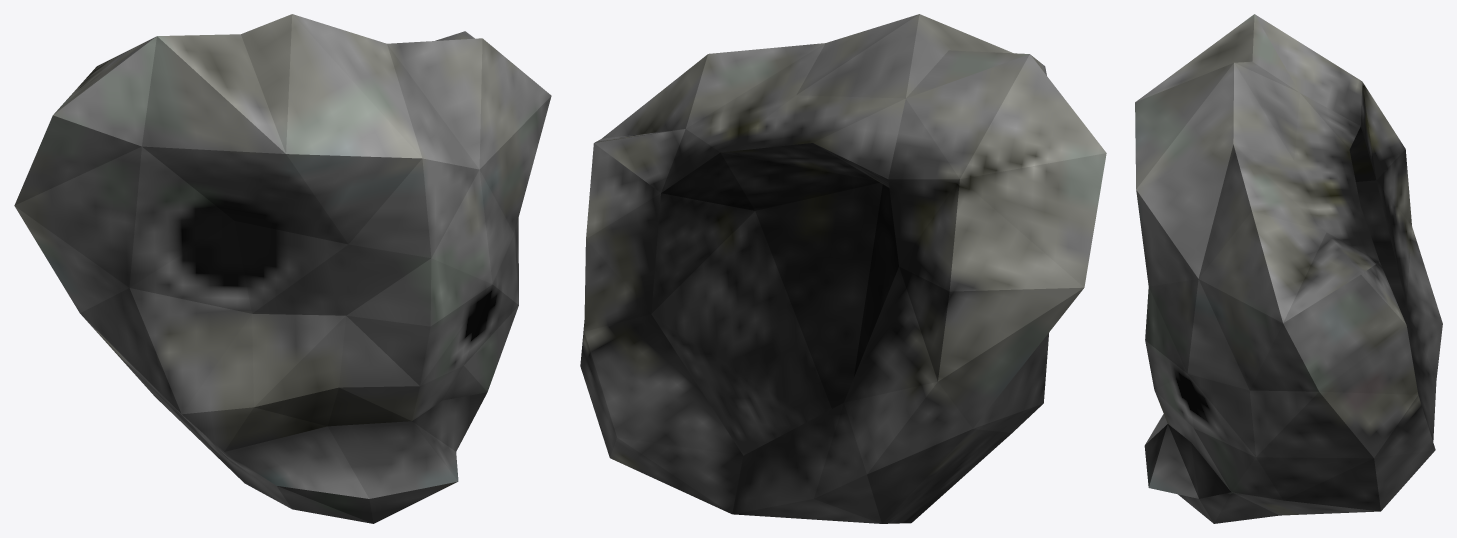
Rendered from stone.glb.
3 views of the same model, side by side, from view 1: azimuth 30°, elevation 25°; view 2: azimuth 150°, elevation 25°; view 3: azimuth 270°, elevation 25° (orthographic). The views are drawn at different scales.
Parts seen in each view (by area): view 1: stonemask.obj; view 2: stonemask.obj; view 3: stonemask.obj.
Part boxes in pixels (box(x1,y1,x2,y2)): stonemask.obj: box(14, 14, 551, 523); stonemask.obj: box(580, 14, 1106, 523); stonemask.obj: box(1135, 14, 1442, 523).
Bounding box in the file's own units: 24.23 × 23.37 × 15.29.
Materials: 1 (1 with a texture image).
